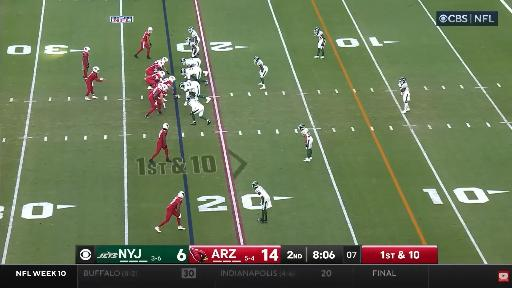Helmet: (157, 83, 166, 89), (158, 71, 165, 78), (178, 191, 184, 198), (158, 60, 164, 67), (162, 84, 168, 91), (252, 181, 258, 188), (314, 27, 319, 35), (254, 56, 259, 64), (169, 76, 175, 82), (84, 47, 90, 53), (163, 123, 169, 129), (162, 57, 168, 63), (188, 27, 194, 33), (299, 124, 305, 130), (181, 58, 186, 65), (162, 78, 169, 83), (181, 68, 186, 75), (179, 82, 184, 89), (93, 67, 99, 72), (399, 77, 405, 82), (186, 38, 191, 44), (186, 96, 191, 101), (254, 56, 259, 61), (148, 27, 152, 33)
Jersey: (184, 81, 200, 98), (255, 186, 270, 201), (187, 98, 203, 111), (168, 196, 182, 210), (149, 87, 164, 100), (186, 67, 201, 79), (86, 72, 102, 83), (185, 58, 201, 67), (147, 62, 163, 70), (145, 73, 161, 81), (158, 129, 167, 143), (190, 41, 199, 55), (191, 31, 199, 44), (301, 128, 311, 138), (141, 31, 150, 42), (161, 78, 173, 86), (399, 82, 409, 91), (256, 60, 266, 69), (83, 52, 89, 65), (317, 31, 323, 40)
Player: (155, 192, 185, 232), (149, 123, 171, 163), (252, 181, 270, 223), (145, 84, 167, 118), (186, 96, 211, 125), (179, 81, 211, 103), (85, 67, 103, 100), (299, 124, 313, 162), (135, 27, 152, 58), (181, 67, 208, 85), (254, 56, 268, 89), (399, 78, 410, 114), (145, 71, 165, 89), (314, 27, 325, 58), (154, 57, 170, 74), (82, 46, 90, 80), (146, 61, 164, 75), (186, 38, 199, 57), (188, 27, 200, 45), (181, 58, 201, 67), (160, 76, 175, 88)
